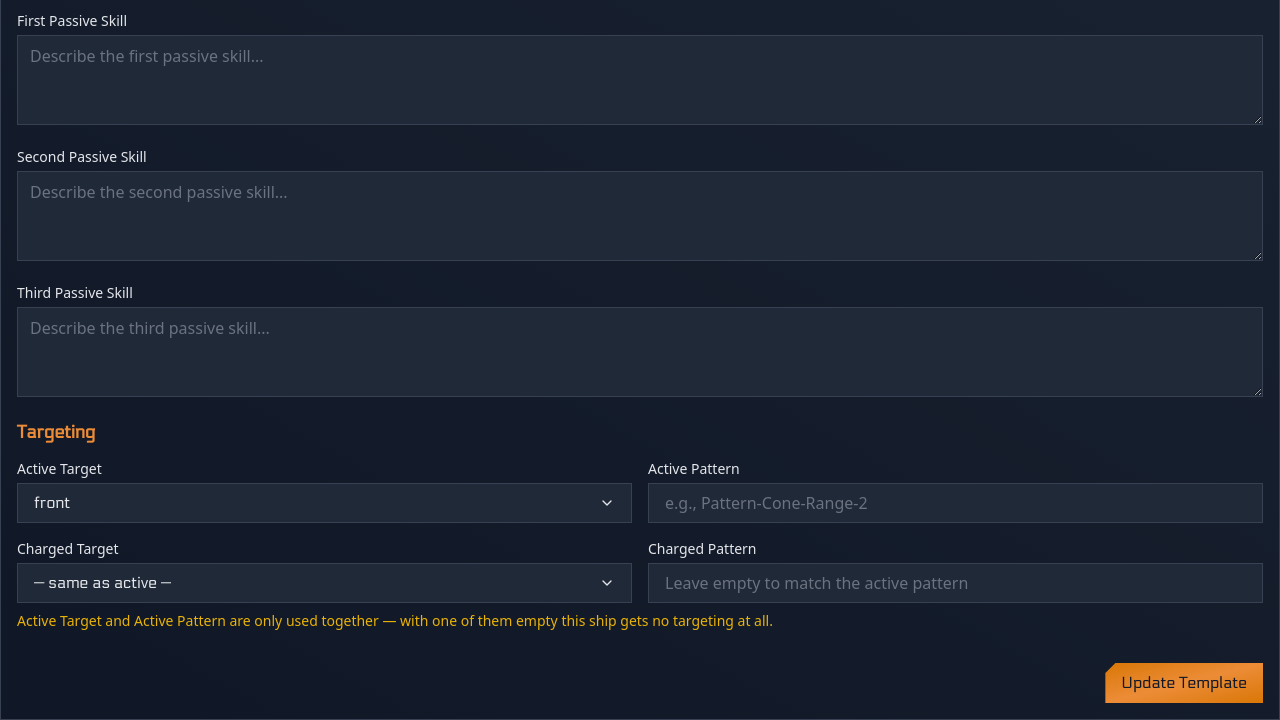
Scenario: AddShipTemplateForm — targeting fields › warns when only one of the two active axes is filled
The width and height of the screenshot is (1280, 720).
(page scrolled)
Check: the text "no targeting at all" is shown, box [17,611,773,630]
In the field labelled "Active Pattern": (956, 503) [648,483,1263,523], type "Pattern-Cone-Range-2"
(page scrolled)
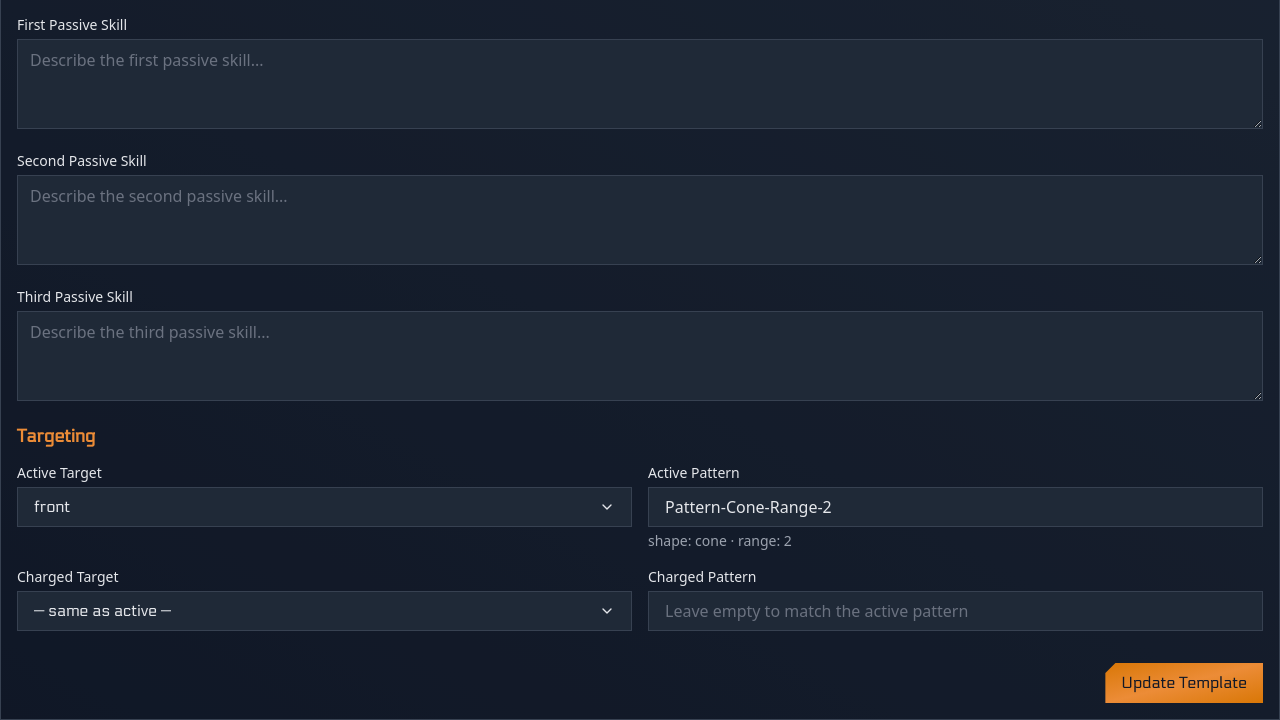
Check: the text "no targeting at all" is gone
